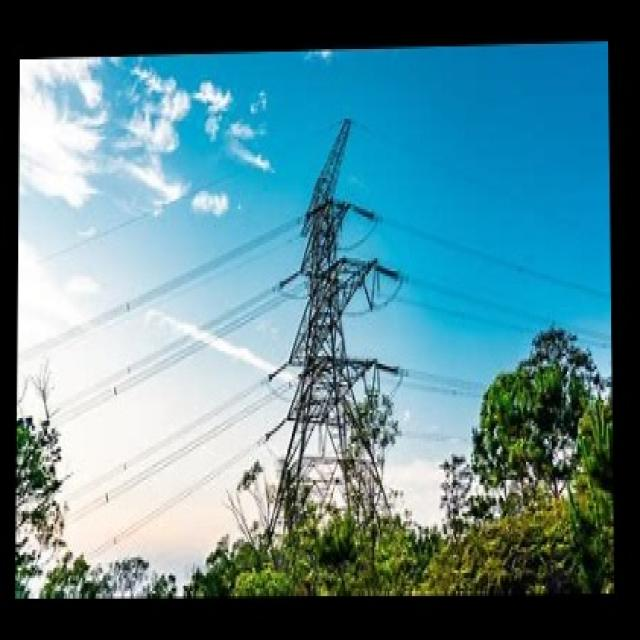utility poles: (454, 290, 600, 578), (276, 332, 398, 594)
